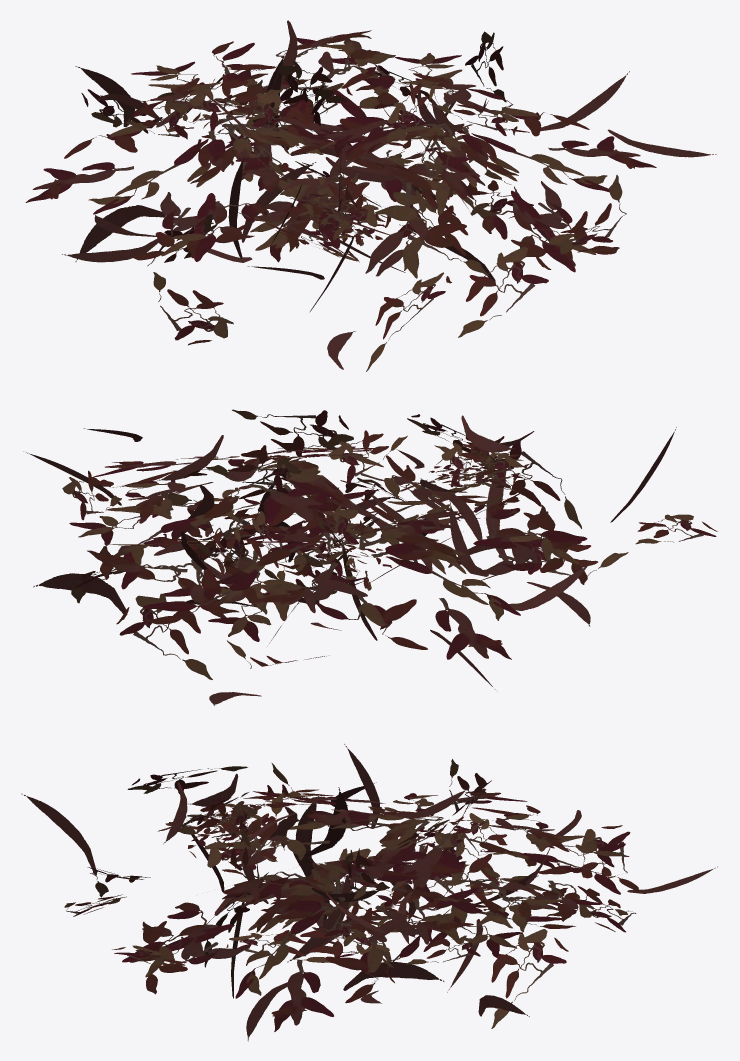
3 renders of one model, top to bottom at view 1: azimuth 30°, elevation 25°; view 2: azimuth 150°, elevation 25°; view 3: azimuth 270°, elevation 25°, orthographic. The views are drawn at different scales.
Visible parts, largest first — view 1: SM_WT_Leaf_Piles_01_LOD0; view 2: SM_WT_Leaf_Piles_01_LOD0; view 3: SM_WT_Leaf_Piles_01_LOD0.
Boxes of the visible parts, x1=… form: SM_WT_Leaf_Piles_01_LOD0: x1=25, y1=20, x2=716, y2=371; SM_WT_Leaf_Piles_01_LOD0: x1=23, y1=409, x2=717, y2=705; SM_WT_Leaf_Piles_01_LOD0: x1=21, y1=744, x2=717, y2=1041.
Size of the model in its own units: 1.43 by 0.4064 by 1.57.
Materials: 1 (1 with a texture image).
